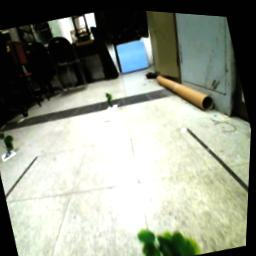herb: (1, 129, 19, 159), (105, 89, 116, 106)
